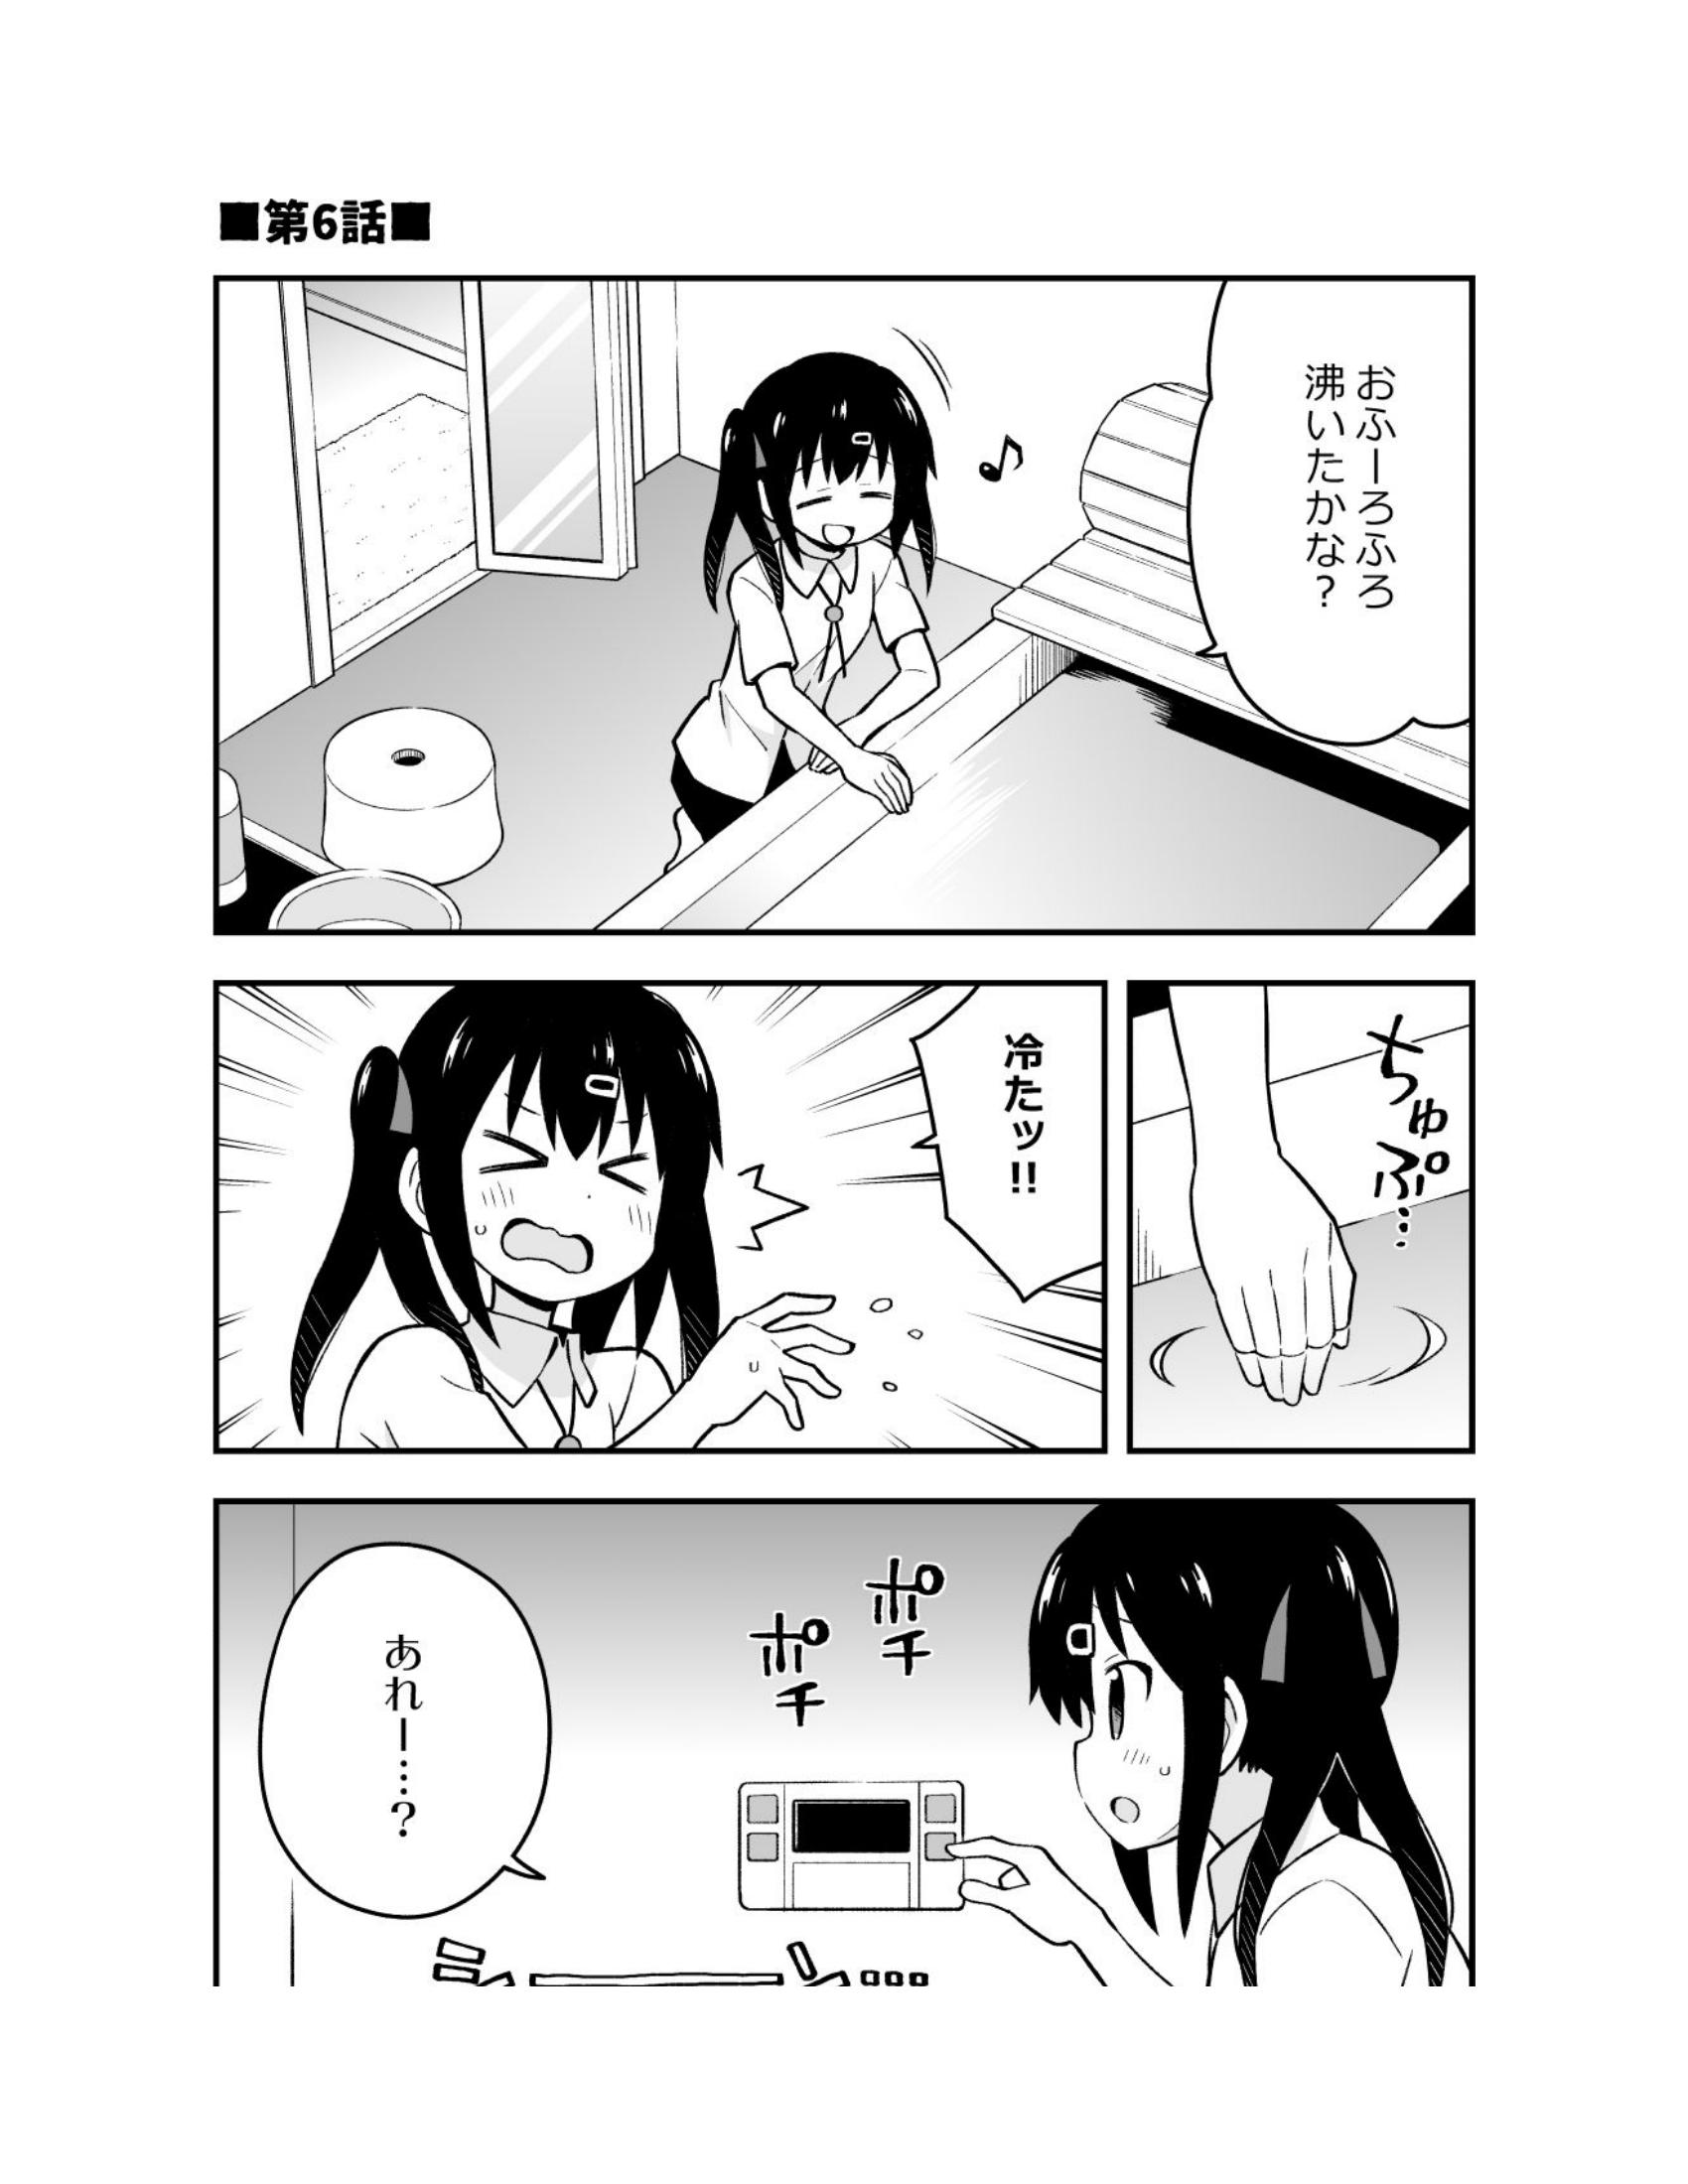a: (1190, 289, 1504, 764), (261, 1532, 574, 1899), (904, 966, 1119, 1333)
